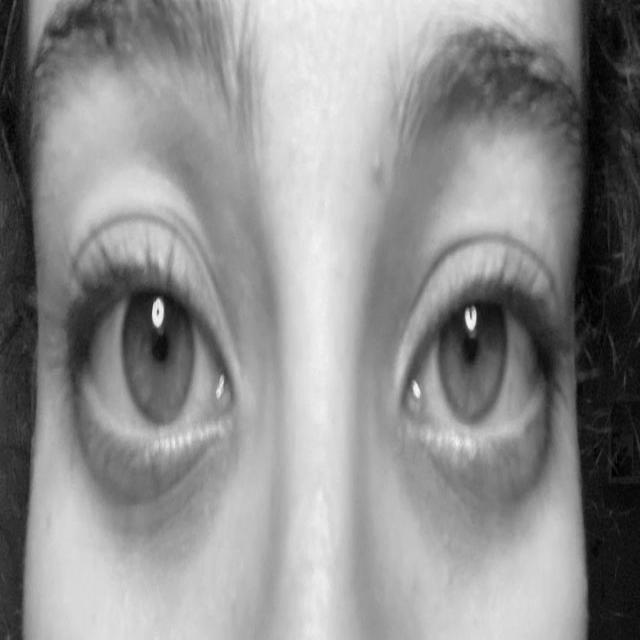real: (42, 92, 574, 568)
